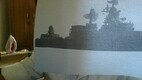tau_muctieu: (38, 1, 142, 53)
